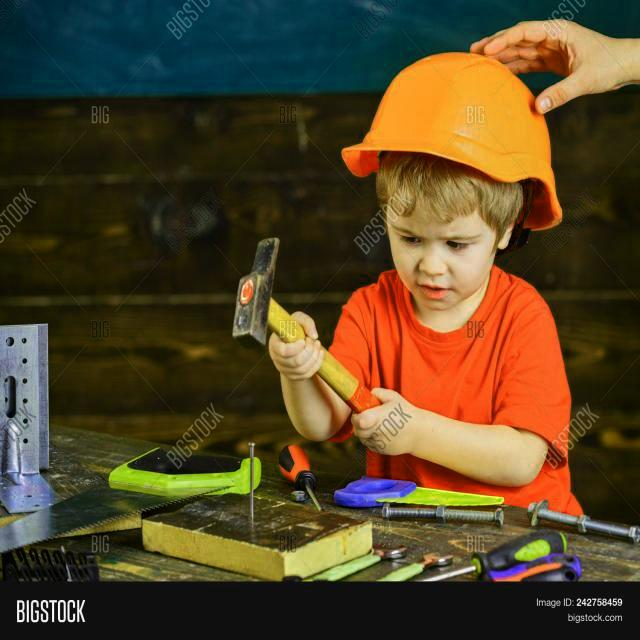hammer: (230, 231, 392, 436)
